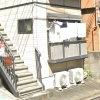stairs: (1, 34, 44, 100)
